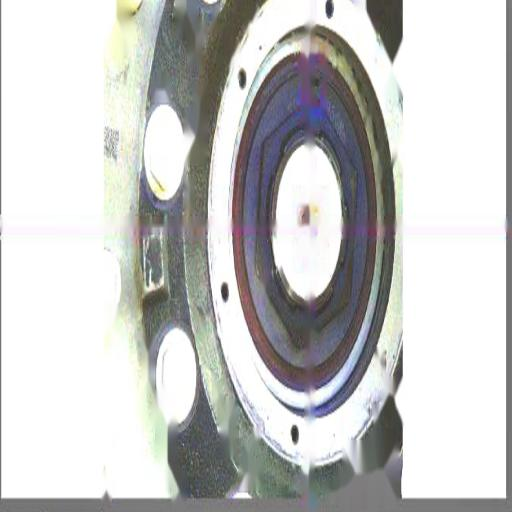center: (298, 204, 314, 236)
notch: (307, 70, 325, 99)
